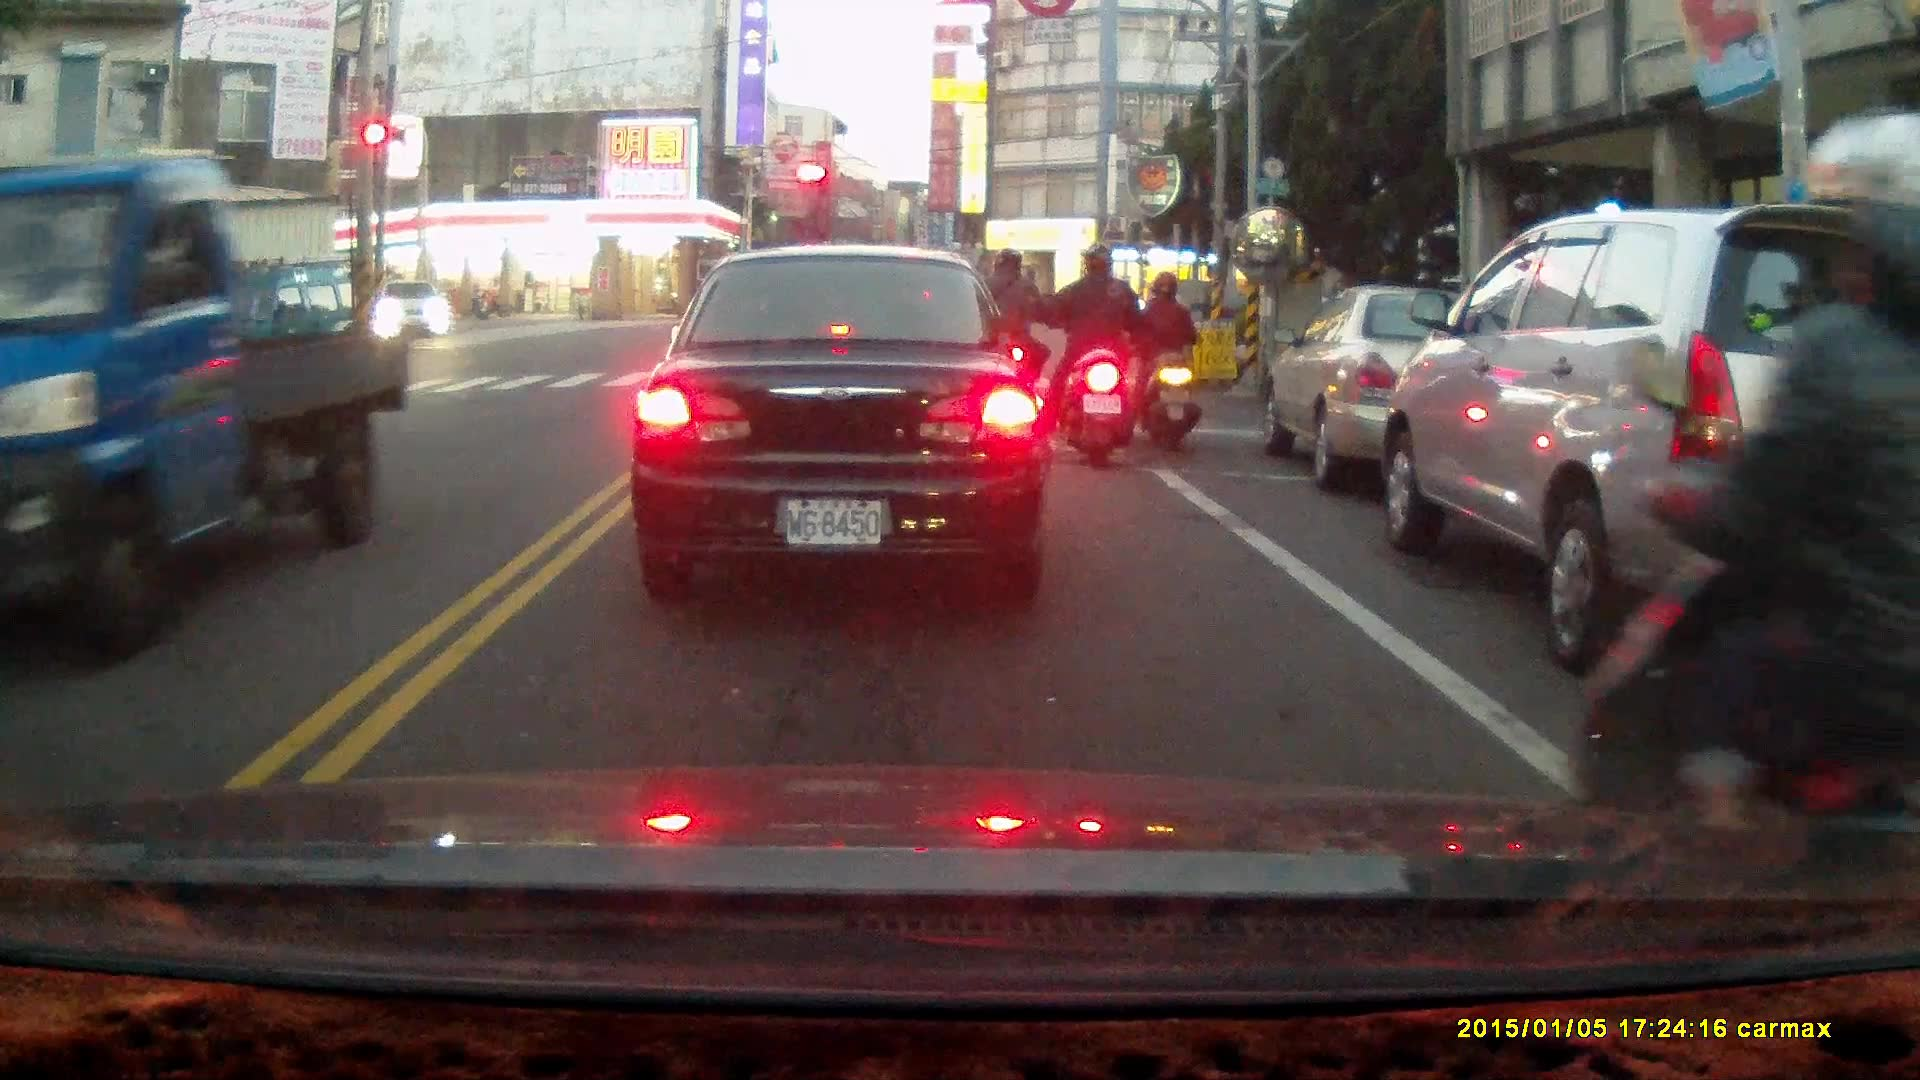rider: (1571, 110, 1920, 985), (1037, 244, 1144, 467), (964, 253, 1047, 432), (1131, 273, 1200, 451)
vehicle: (1379, 201, 1920, 679), (1, 158, 412, 657), (633, 249, 1042, 601), (1258, 287, 1568, 493), (203, 264, 388, 396), (372, 277, 451, 343)
